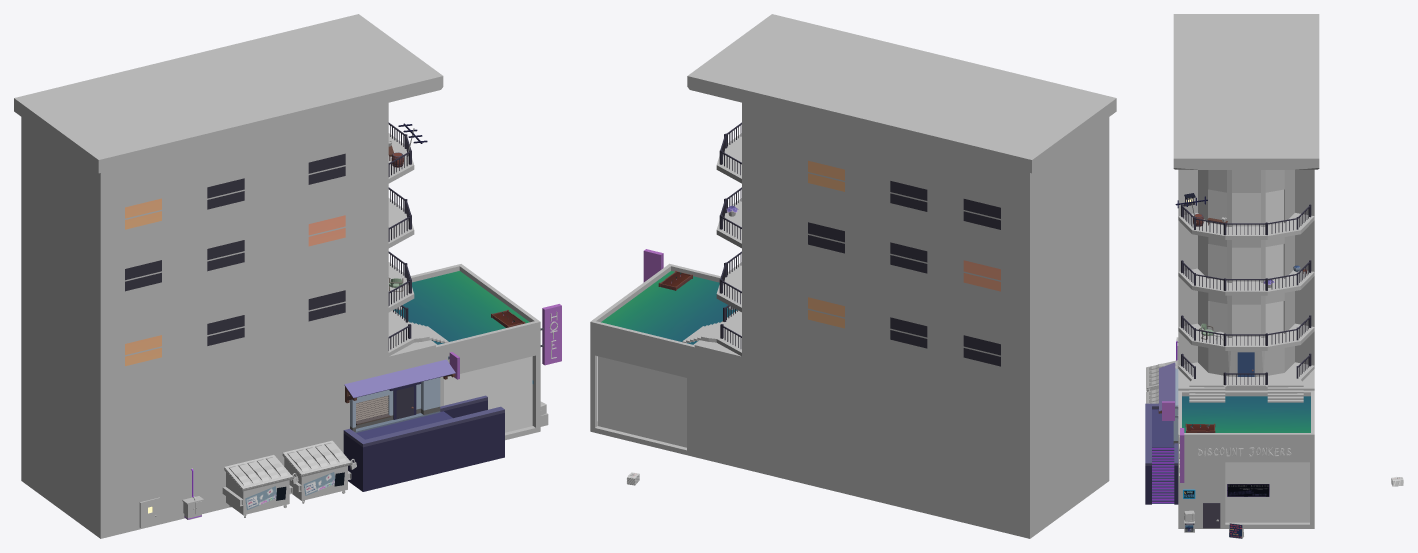
File: DBDiscountJonkersandHotel.fbx
3 views of the same model, side by side, from view 1: azimuth 30°, elevation 25°; view 2: azimuth 150°, elevation 25°; view 3: azimuth 270°, elevation 25° (orthographic). The views are drawn at different scales.
Parts seen in each view (by area): view 1: JonkerApartment, Window.049, StairsBase.002, JonkerInterior, Street_Dumpster.001, Street_Dumpster, BuildingFacade.001, Awning.116, VerticalSign.012, Stairs.042, BalconyBottom.016; view 2: JonkerApartment, Window.049, JonkerInterior, BalconyBottom.015, BalconyBottom.017, BalconyBottom.016; view 3: JonkerApartment, JonkerInterior, Stairs.042, BalconyBottom.015, BalconyBottom.016, BalconyBottom.017, StairsBase.002, BalconyRailing.034, BalconyRailing.032, BalconyRailing.033, Awning.116, BalconyRailing.035 (+6 smaller).
Part boxes in pixels (bbox=[...]): JonkerApartment: bbox=[14, 14, 540, 538]; Window.049: bbox=[123, 151, 347, 368]; StairsBase.002: bbox=[343, 395, 504, 491]; JonkerInterior: bbox=[444, 356, 532, 432]; Street_Dumpster.001: bbox=[222, 455, 298, 517]; Street_Dumpster: bbox=[282, 440, 356, 503]; BuildingFacade.001: bbox=[350, 377, 440, 432]; Awning.116: bbox=[344, 359, 455, 403]; VerticalSign.012: bbox=[542, 304, 561, 365]; Stairs.042: bbox=[356, 411, 452, 439]; BalconyBottom.016: bbox=[388, 198, 414, 248]; JonkerApartment: bbox=[590, 14, 1116, 538]; Window.049: bbox=[806, 158, 1002, 368]; JonkerInterior: bbox=[598, 356, 686, 447]; BalconyBottom.015: bbox=[716, 262, 741, 312]; BalconyBottom.017: bbox=[716, 133, 741, 183]; BalconyBottom.016: bbox=[716, 198, 741, 248]; JonkerApartment: bbox=[1173, 14, 1319, 528]; JonkerInterior: bbox=[1225, 462, 1309, 522]; Stairs.042: bbox=[1152, 409, 1174, 503]; BalconyBottom.015: bbox=[1178, 323, 1314, 350]; BalconyBottom.016: bbox=[1178, 268, 1314, 295]; BalconyBottom.017: bbox=[1178, 213, 1314, 239]; StairsBase.002: bbox=[1145, 403, 1178, 504]; BalconyRailing.034: bbox=[1181, 204, 1311, 235]; BalconyRailing.032: bbox=[1181, 315, 1311, 345]; BalconyRailing.033: bbox=[1181, 260, 1311, 290]; Awning.116: bbox=[1158, 362, 1175, 413]; BalconyRailing.035: bbox=[1181, 353, 1311, 385].
Bounding box in the file's own units: 5877 × 4555 × 3251.
